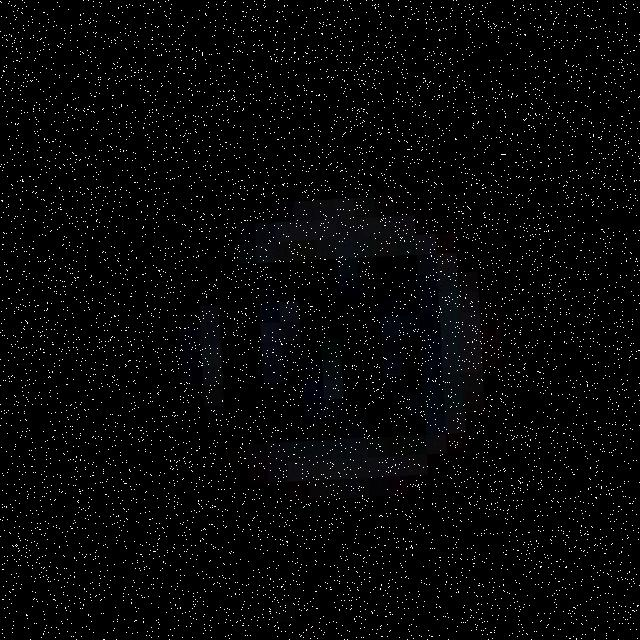Ograniczenie predkosci do 120: (116, 135, 566, 569)
